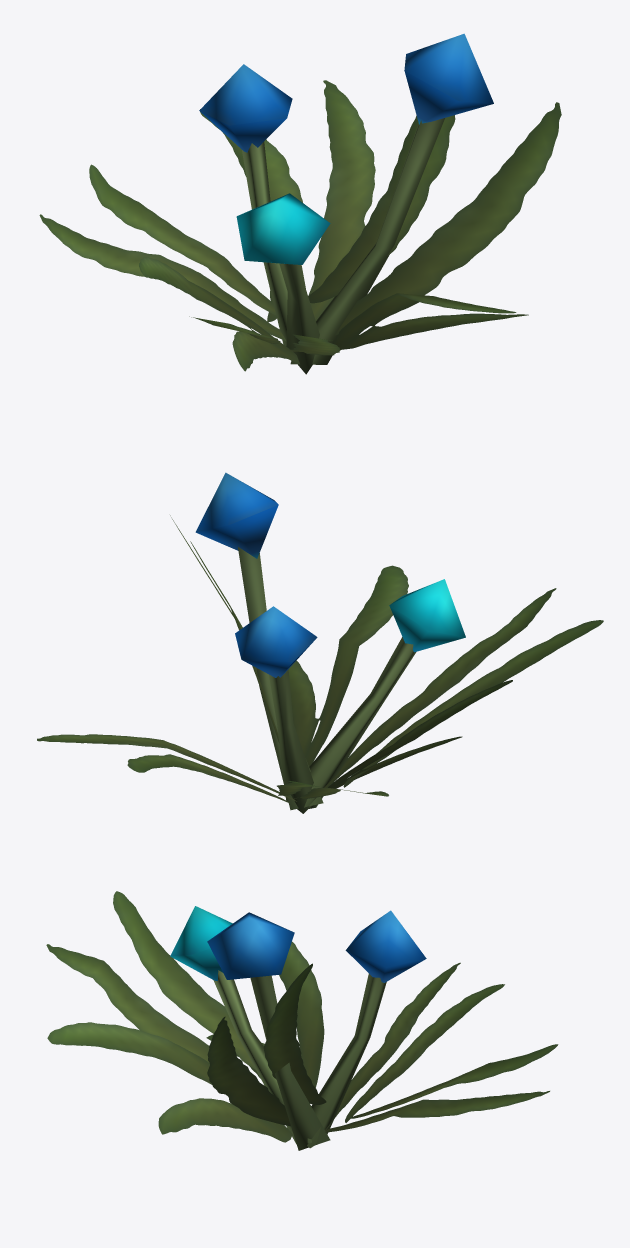
File: Plant_04.fbx
3 views of the same model, one above another, from view 1: azimuth 30°, elevation 25°; view 2: azimuth 150°, elevation 25°; view 3: azimuth 270°, elevation 25° (orthographic). The views are drawn at different scales.
Visible parts, largest first — view 1: Plant_04; view 2: Plant_04; view 3: Plant_04.
Boxes of the visible parts, left/top/right/bottom form: Plant_04: left=39, top=33, right=561, bottom=374; Plant_04: left=37, top=472, right=603, bottom=813; Plant_04: left=46, top=891, right=558, bottom=1150.
Bounding box in the file's own units: 106 × 69.7 × 130.
1 material, 1 textured.
